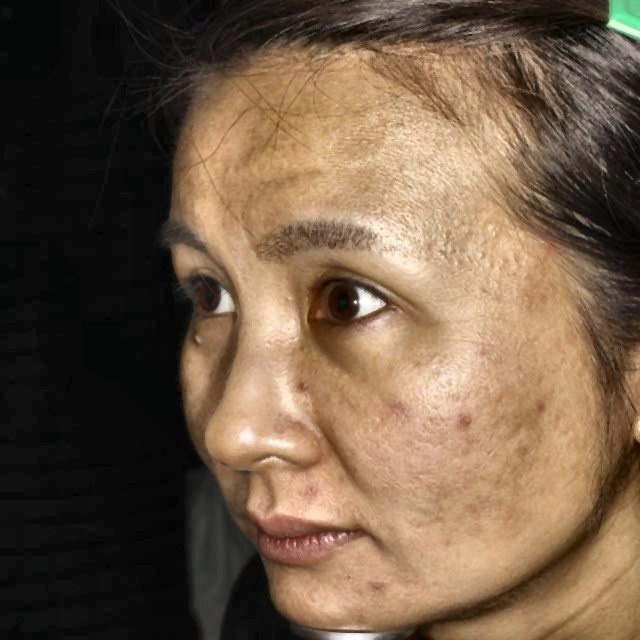comedone: (366, 570, 399, 611), (456, 407, 481, 438)
